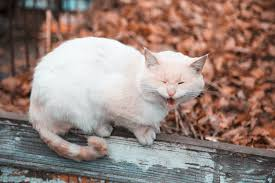cat: (15, 32, 220, 170)
